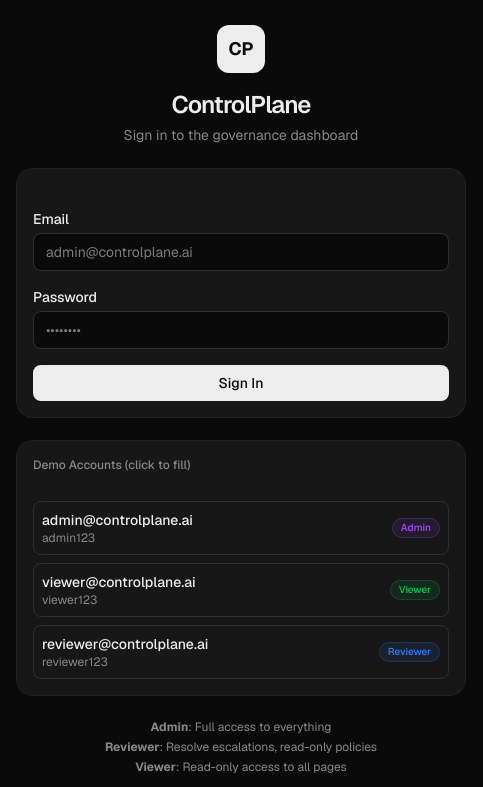
Scenario: Login Flow Integration › shows error on invalid credentials
The image size is (483, 787).
Type "wrong@email.com" into the field with placeholder "admin@controlplane.ai" at (241, 252), box [33, 233, 449, 271]
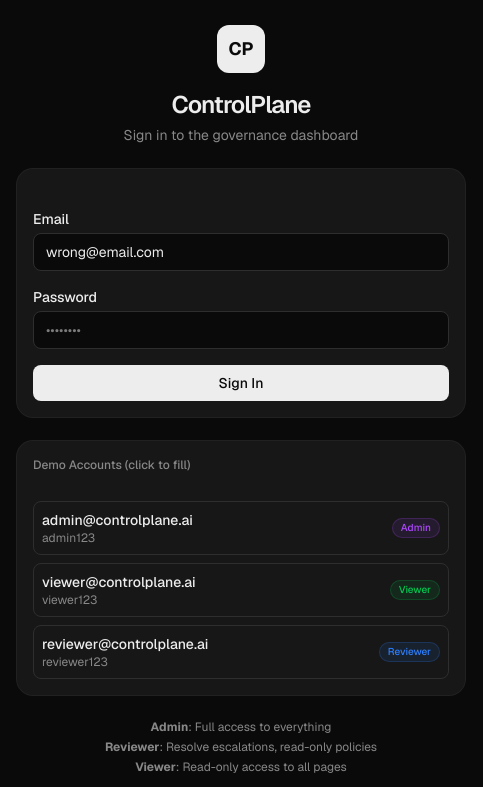
Type "wrongpassword" into the password field with placeholder "••••••••" at (241, 330), box [33, 311, 449, 349]
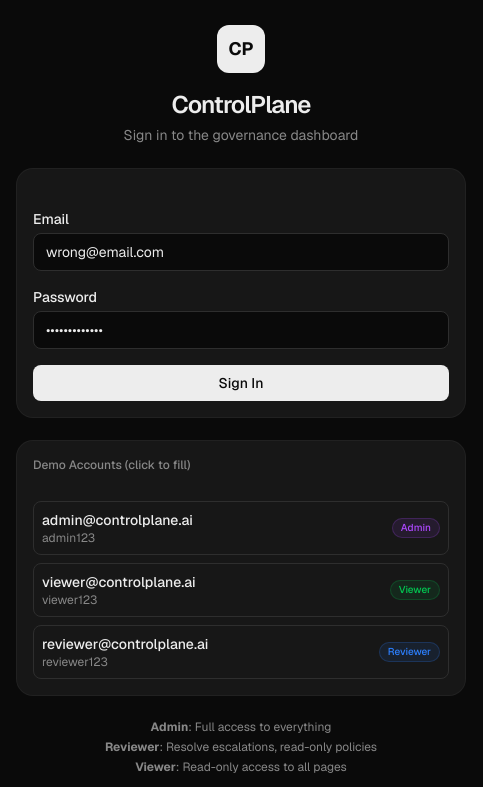
Click the button "Sign In" at (241, 383), box [33, 365, 449, 401]
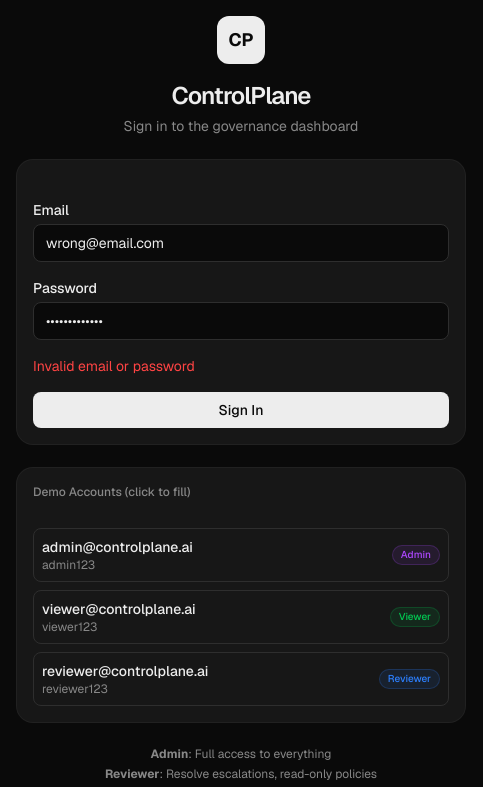
Expected: the text "Invalid email or password" is shown, [33, 357, 195, 375]
